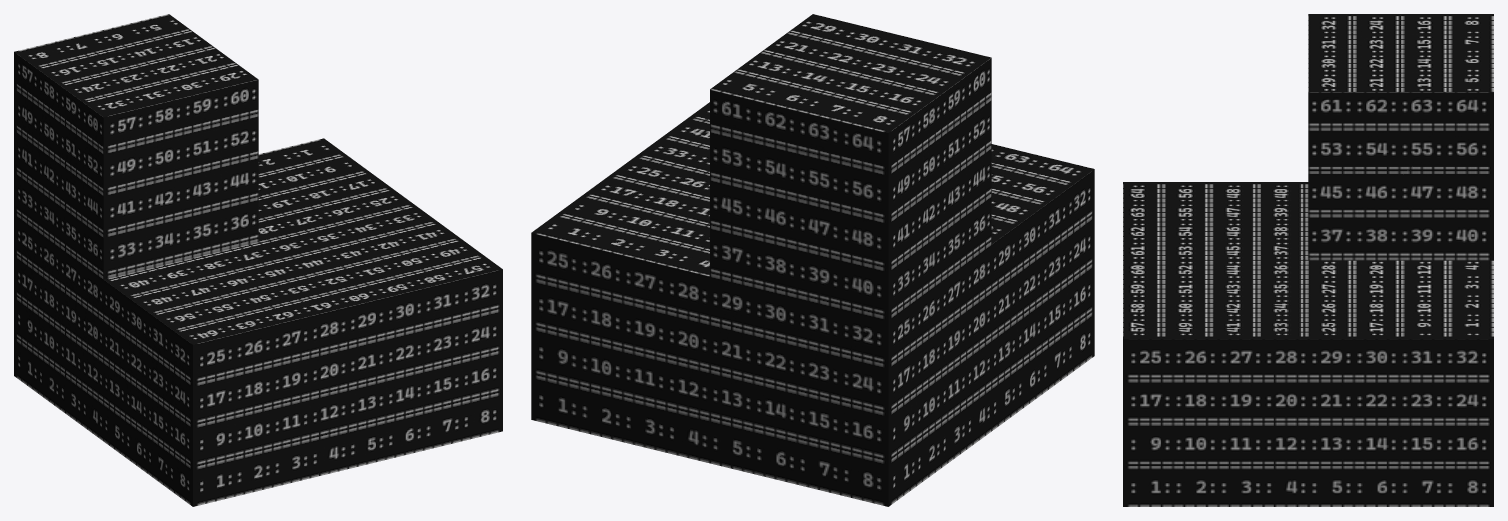
Rendered from 二阶台阶(对角).fbx.
The picture shows the model from 3 angles, left to right: view 1: azimuth 30°, elevation 25°; view 2: azimuth 150°, elevation 25°; view 3: azimuth 270°, elevation 25°; orthographic projection. The views are drawn at different scales.
Parts seen in each view (by area): view 1: 二阶台阶(对角); view 2: 二阶台阶(对角); view 3: 二阶台阶(对角).
Boxes of the visible parts, left/top/right/bottom form: 二阶台阶(对角): left=14, top=14, right=502, bottom=506; 二阶台阶(对角): left=531, top=14, right=1094, bottom=506; 二阶台阶(对角): left=1123, top=14, right=1493, bottom=506.
Bounding box in the file's own units: 100 × 100 × 100.
